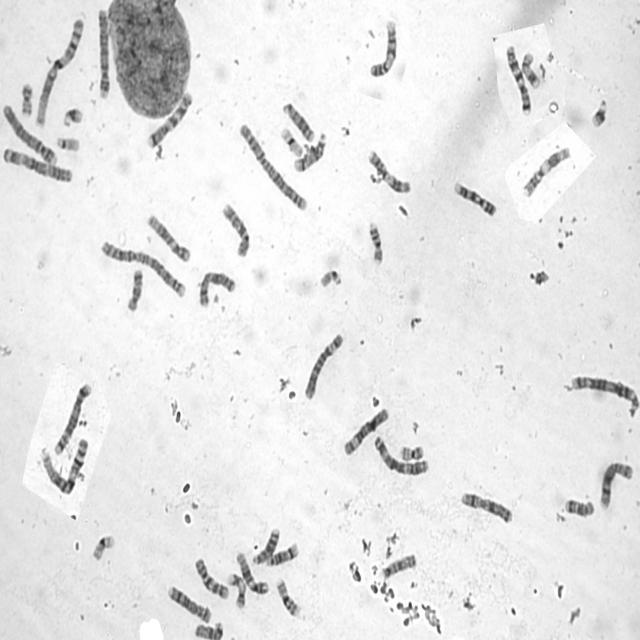A1: (33, 15, 86, 129), (38, 435, 89, 496)
A2: (236, 120, 308, 213), (98, 237, 188, 300)
A3: (1, 144, 75, 186), (371, 432, 430, 477)
B4: (1, 100, 58, 166), (95, 5, 111, 100)
B5: (52, 379, 93, 457), (568, 373, 635, 403)
C10: (220, 198, 252, 259), (192, 554, 230, 600)
C11: (521, 144, 572, 198), (365, 147, 412, 195)
C12: (144, 210, 192, 264), (234, 549, 269, 595)
C6: (301, 330, 345, 401), (341, 404, 390, 457)
C7: (144, 89, 193, 150), (503, 42, 532, 117)
C8: (165, 582, 213, 624), (597, 458, 634, 511)
C9: (367, 16, 399, 80), (452, 178, 498, 218)
D13: (281, 100, 315, 143), (250, 524, 281, 566)
D14: (292, 130, 328, 173), (264, 539, 299, 568)
D15: (380, 551, 417, 580), (193, 618, 225, 640)
E16: (274, 576, 302, 618), (366, 218, 384, 267)
E17: (226, 570, 247, 611), (520, 50, 541, 90)
E18: (125, 267, 144, 313), (562, 494, 596, 518)
F19: (278, 124, 304, 157), (90, 530, 116, 562)
F20: (397, 440, 425, 463), (18, 79, 34, 117)
G21: (588, 95, 609, 129), (60, 103, 85, 128)
G22: (317, 266, 343, 289), (54, 133, 82, 152)
X: (458, 488, 514, 524), (197, 267, 237, 308)
